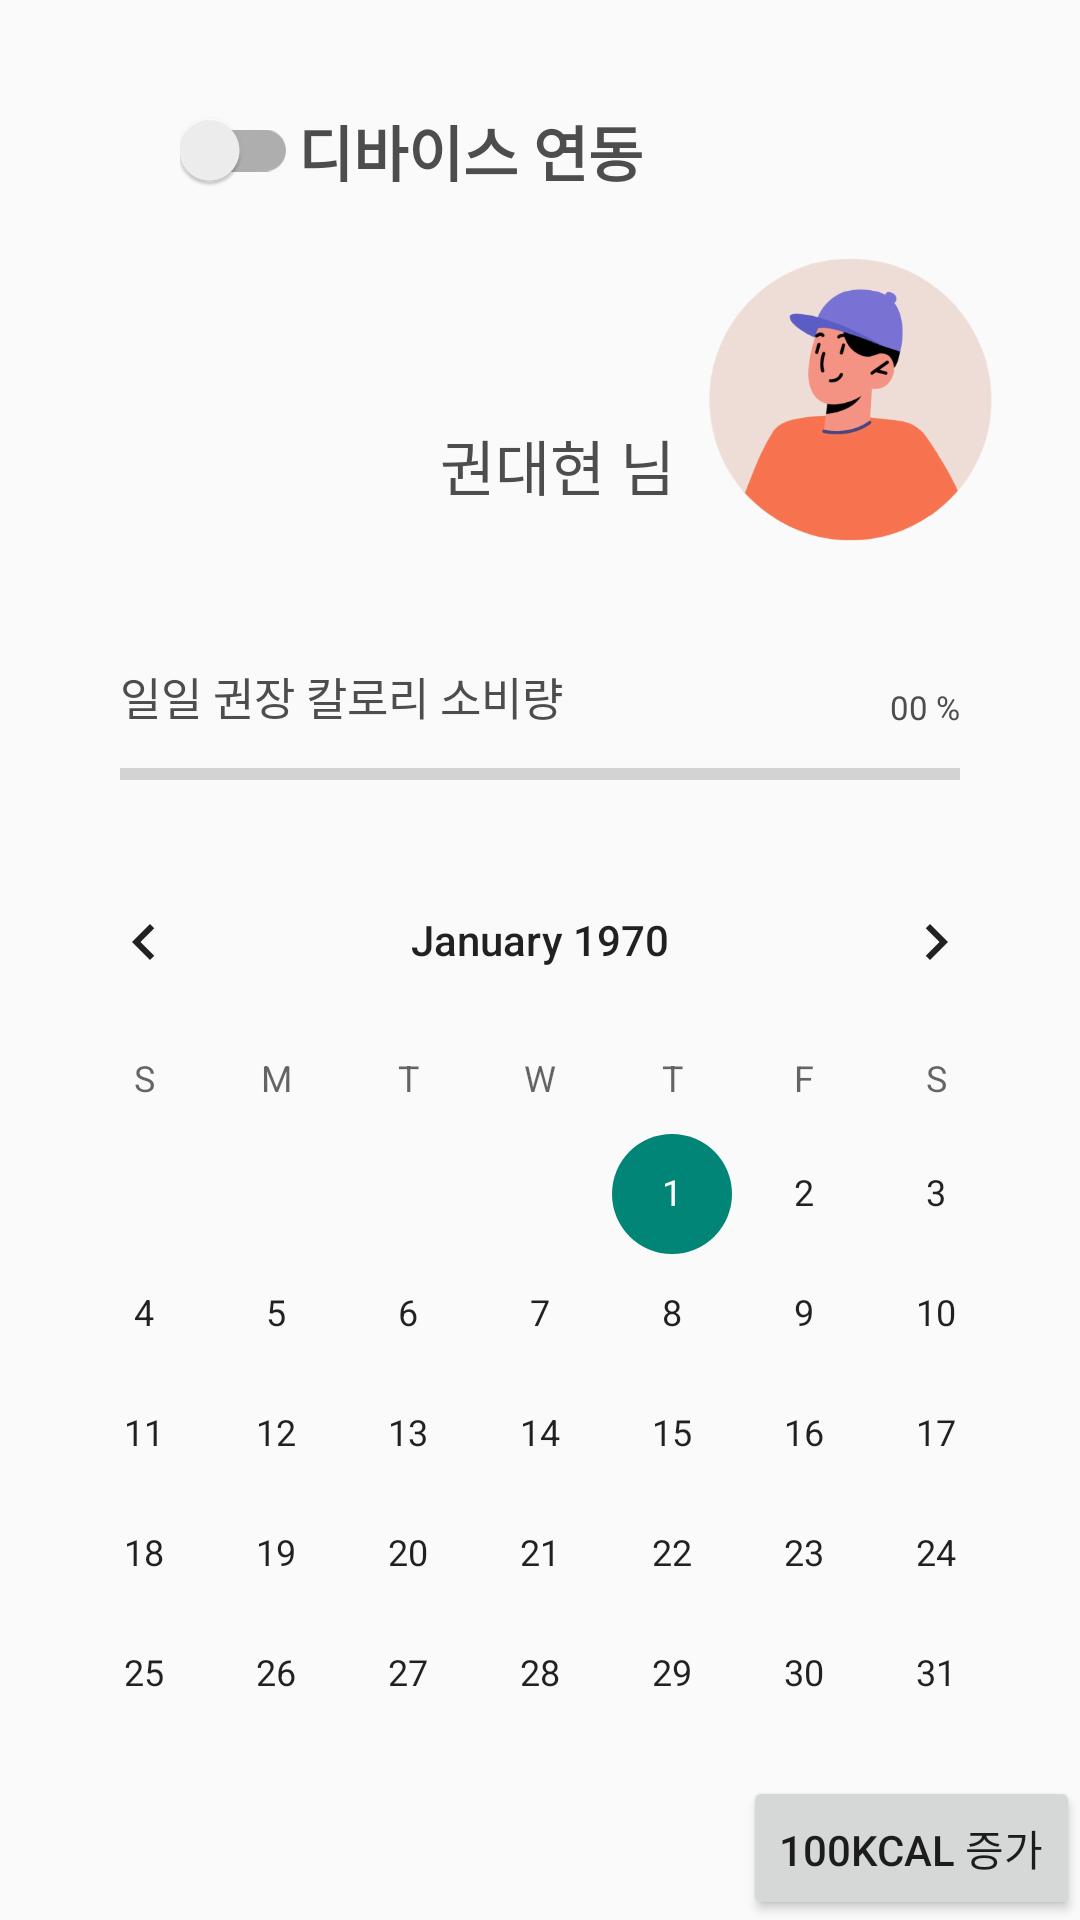

Screen size 1080px×1920px. Icon name, then its center in pixels as point (x, y):
profile: point (850, 400)
